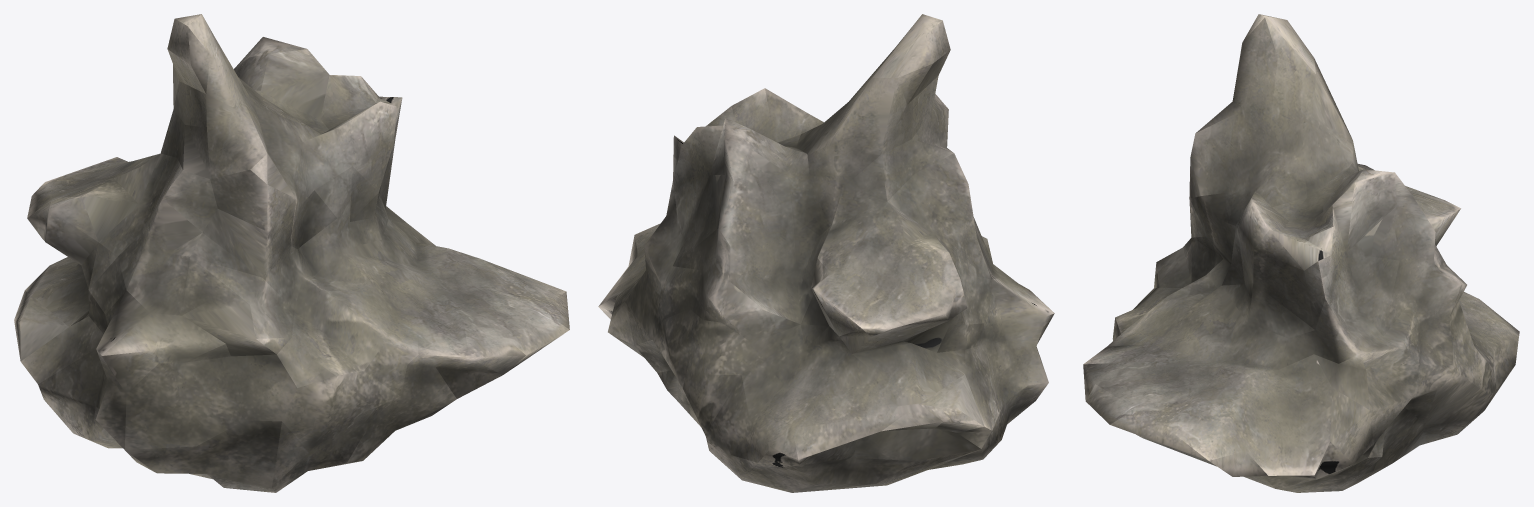
The model's file is rock4_LOD1.fbx.
3 renders of one model, left to right at view 1: azimuth 30°, elevation 25°; view 2: azimuth 150°, elevation 25°; view 3: azimuth 270°, elevation 25°, orthographic. The views are drawn at different scales.
Parts seen in each view (by area): view 1: rock4; view 2: rock4; view 3: rock4.
Boxes of the visible parts, x1=… form: rock4: x1=14, y1=14, x2=569, y2=492; rock4: x1=598, y1=14, x2=1054, y2=492; rock4: x1=1083, y1=14, x2=1519, y2=492.
Size of the model in its own units: 21.02 by 19.56 by 20.5.
